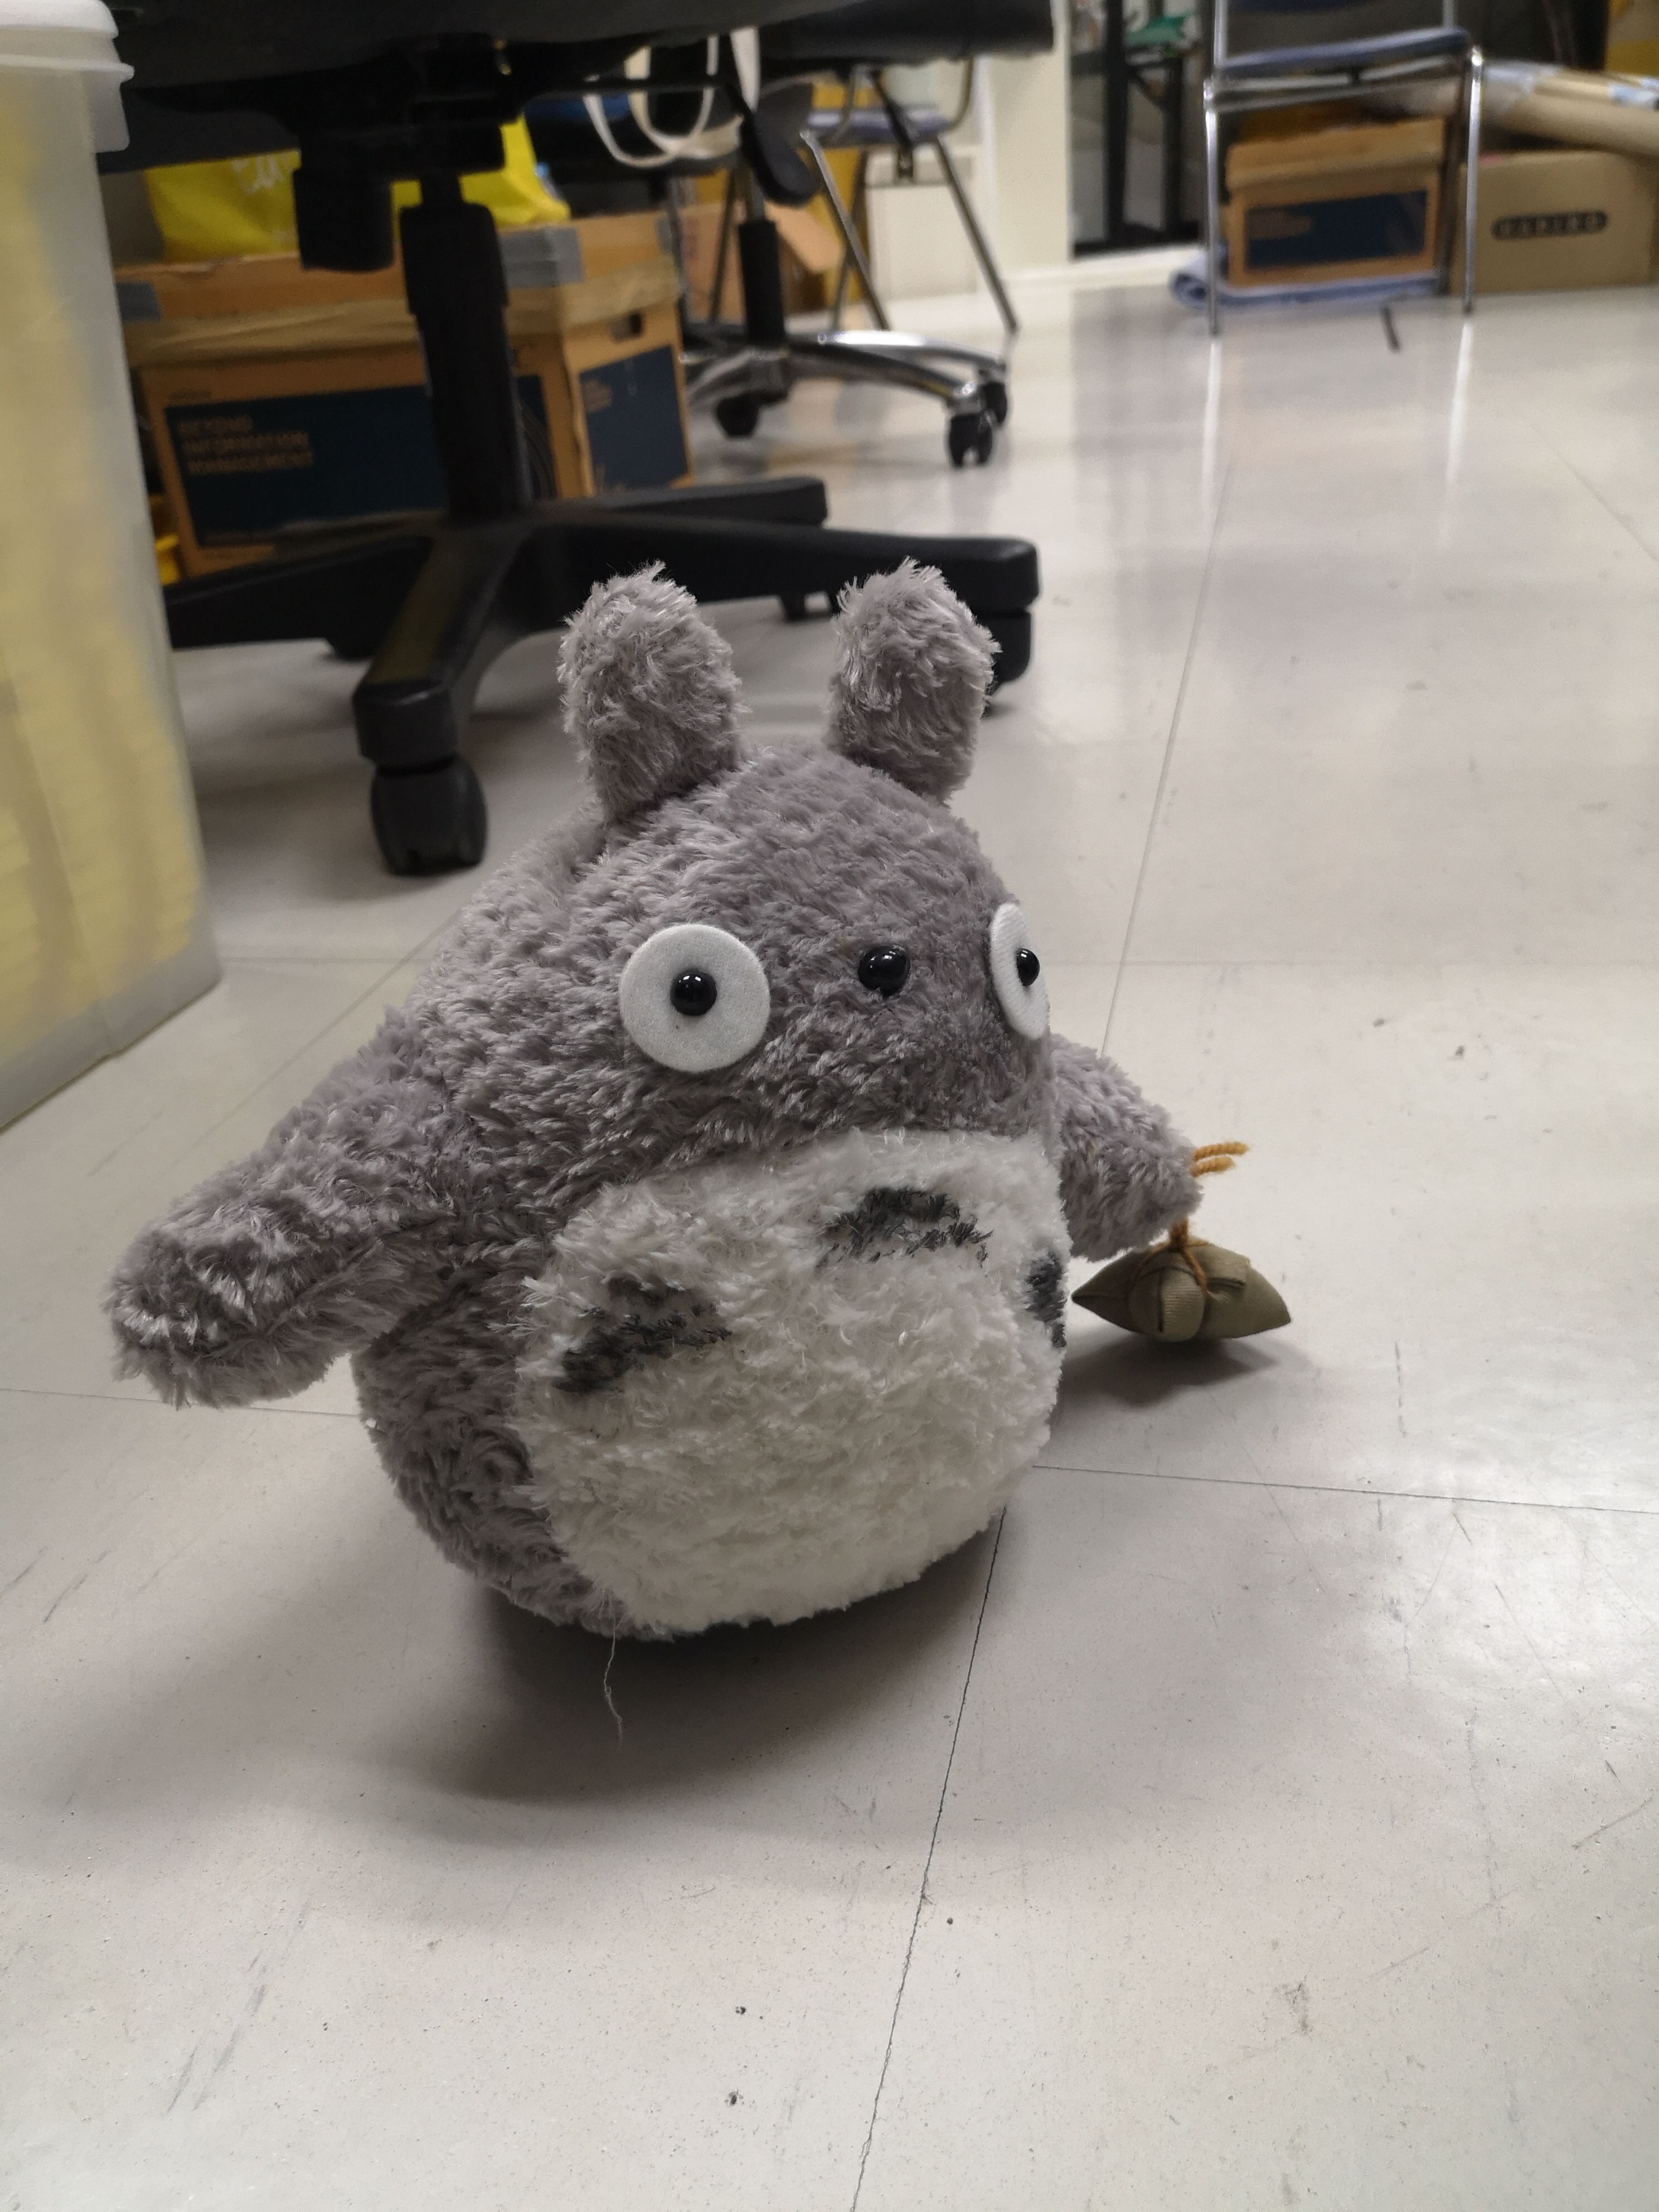totoro: (91, 529, 1314, 1724)
